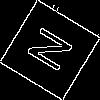N: (24, 24, 83, 80)
